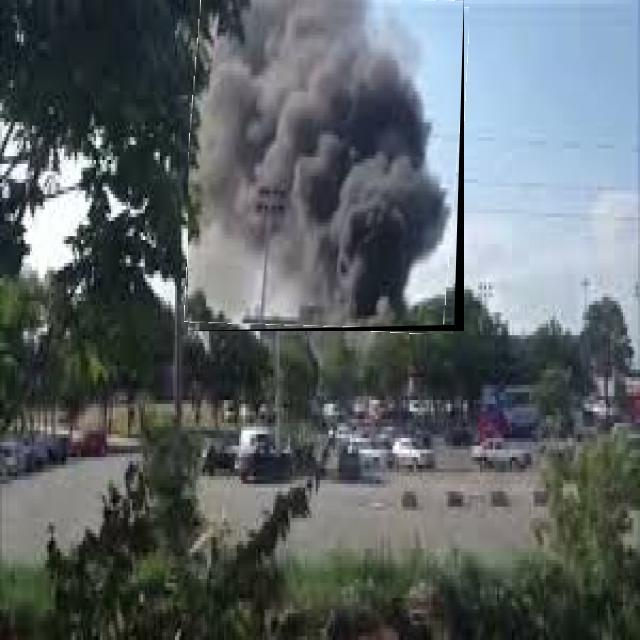smoke: (206, 7, 431, 171), (198, 177, 330, 317), (328, 156, 451, 305)
